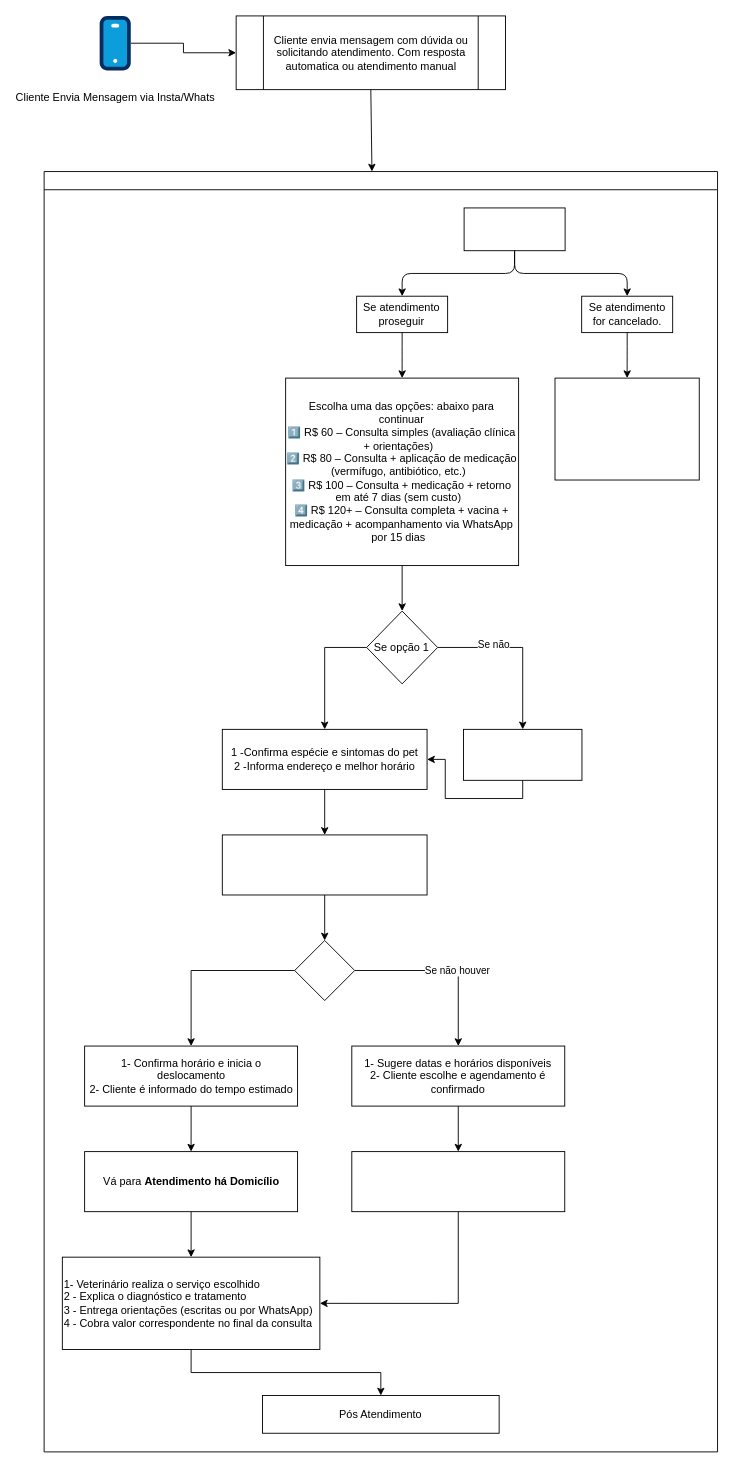
This 733x1468 diagram has some shape labels left out. Here are the shapes that lost their labels. From the top down, the box of each, then its label:
(463, 207, 565, 251): Recebe um Menu de serviço e valores
(554, 377, 699, 480): Obrigado pelo seu contato, estaremos a disposiçaão sempre que precisar
(463, 728, 582, 780): Escolha outra Opção!
(221, 834, 427, 895): Confima se há disponibilidade para a consulta imediata
(294, 940, 355, 1001): Se houver
(351, 1151, 565, 1212): Vá para Pré-Atendimento Agendado
